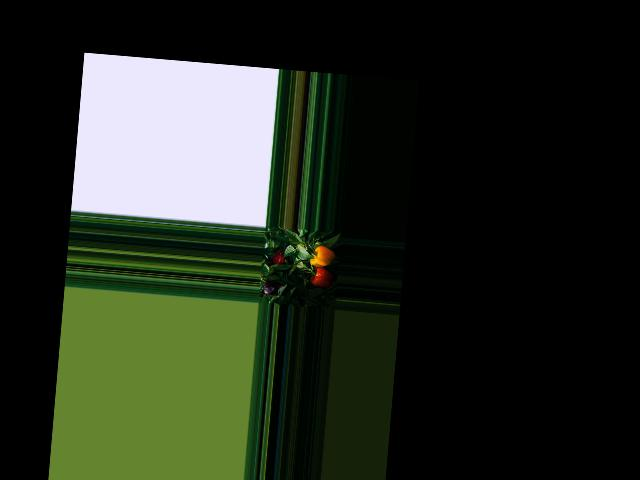bell_pepper: (308, 244, 335, 273)
